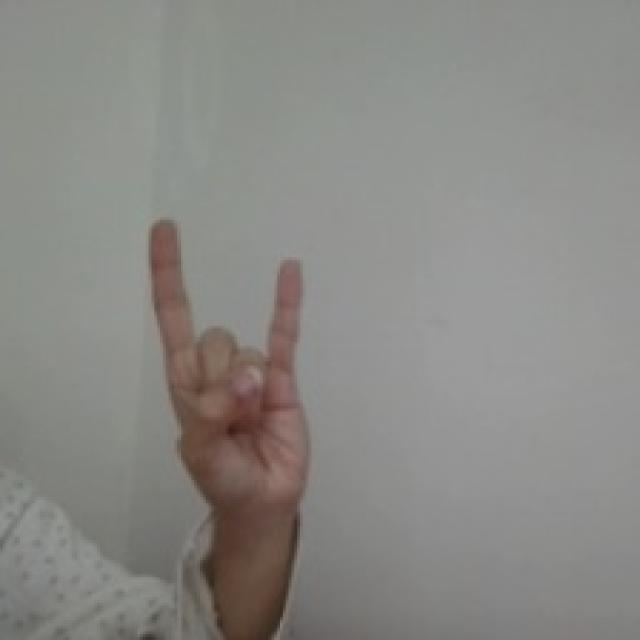No: (140, 212, 322, 515)
